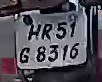1: (68, 20, 77, 41), (60, 44, 68, 64)
3: (47, 43, 59, 64)
5: (55, 21, 67, 42)
6: (68, 43, 81, 62)
8: (35, 44, 47, 65)
G: (16, 46, 34, 66)
H: (27, 24, 41, 44)
R: (41, 22, 53, 42)
